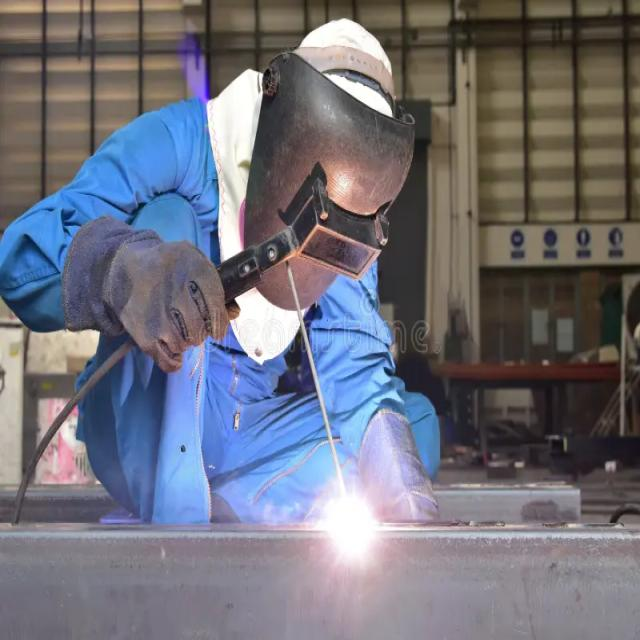gloves: (70, 213, 220, 352), (364, 418, 432, 538)
